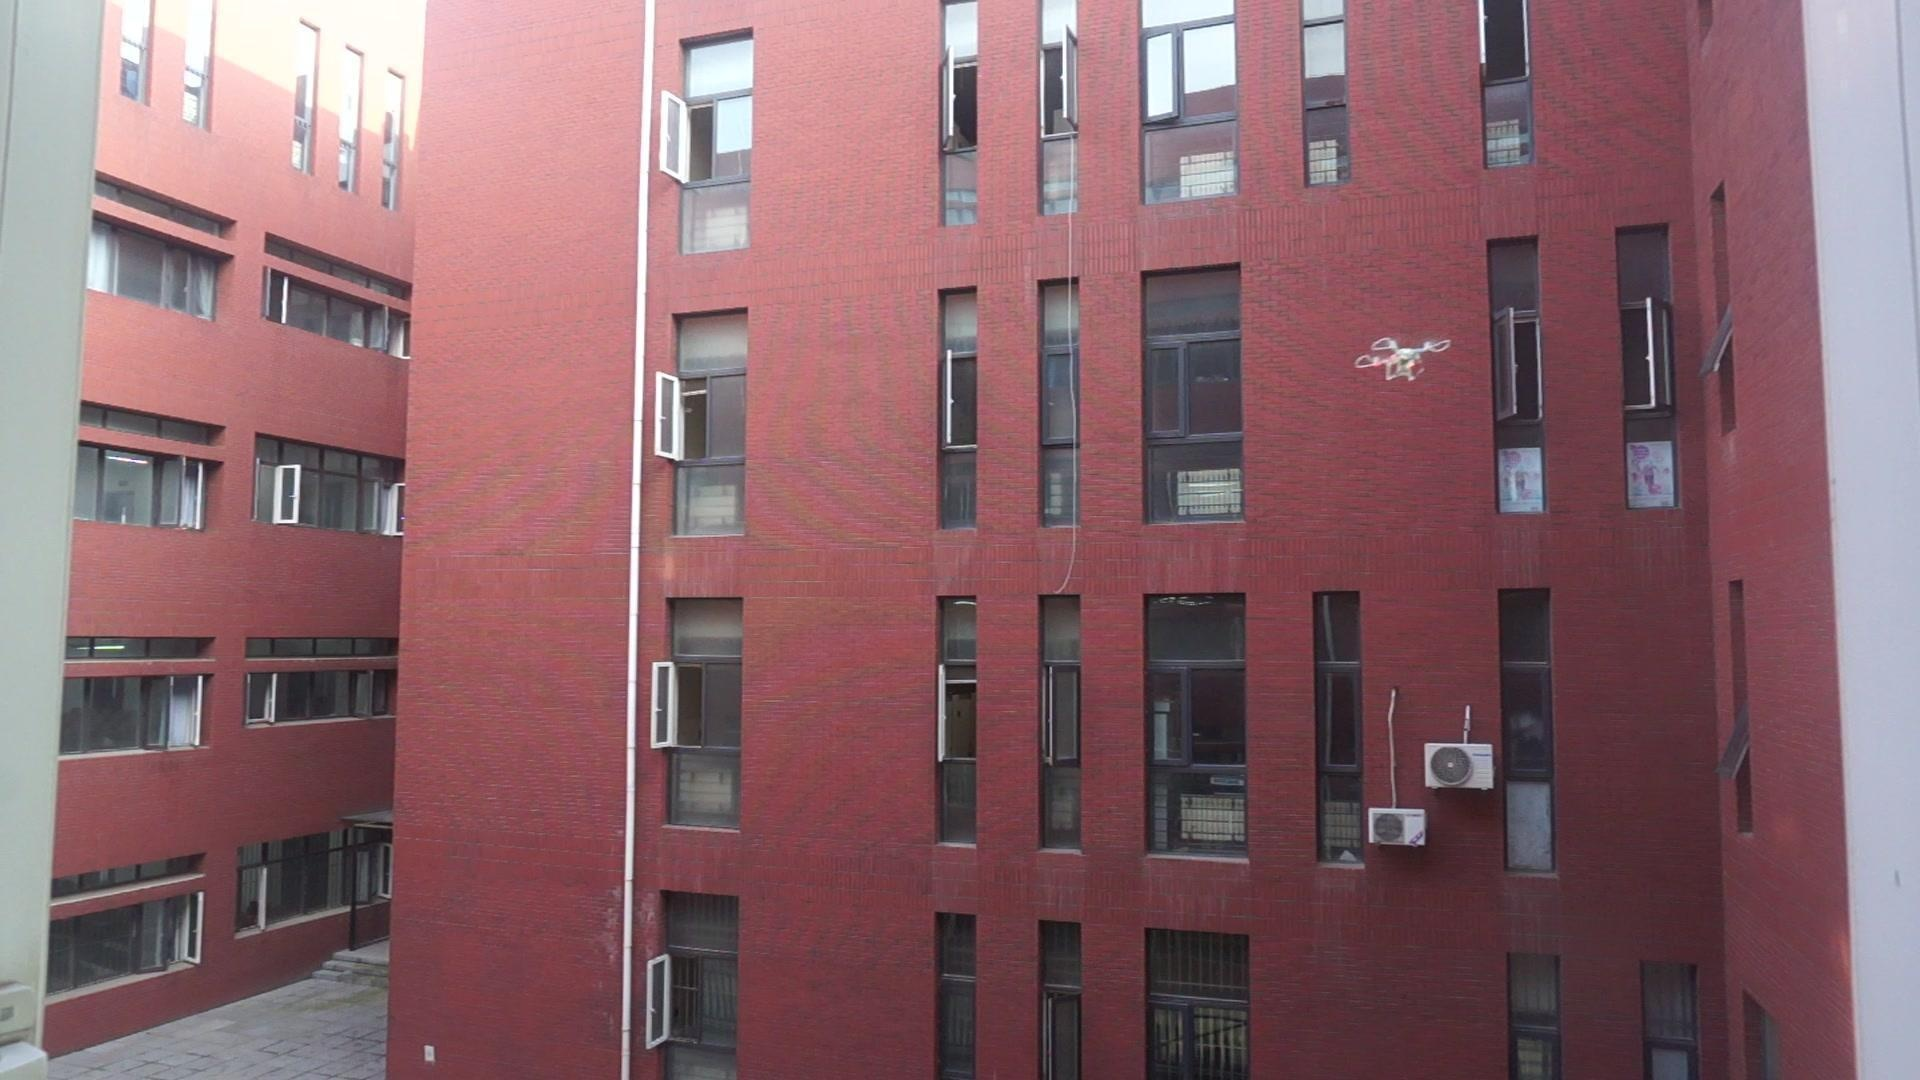UAV: (1354, 338, 1453, 382)
